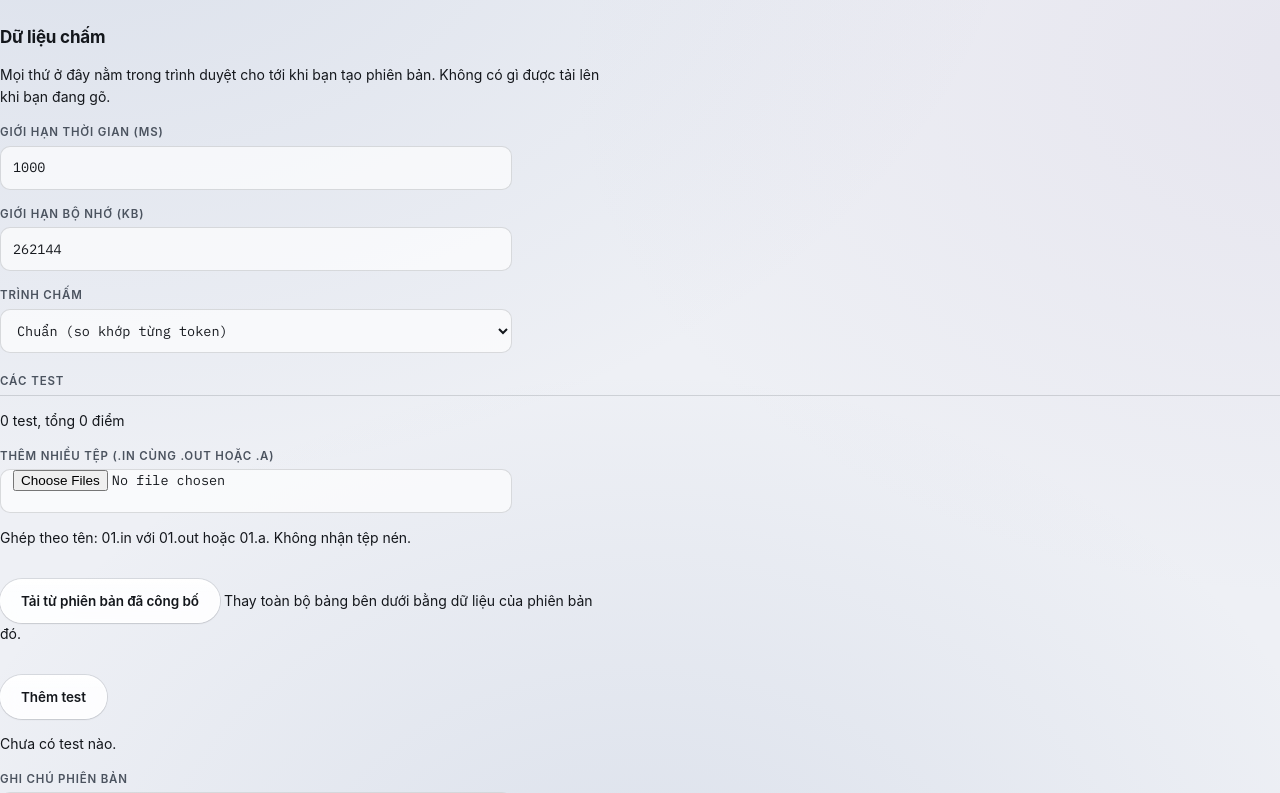
it: the test-data tab › offers the checker source editor only when a source checker is chosen (D40)
This screenshot has width=1280, height=793.
expect the text "checker.cpp" is not shown: met
Select "Mã nguồn trình chấm testlib" in the dropdown labelled "Trình chấm". click: point(256, 331)
box: [0,309,512,353]
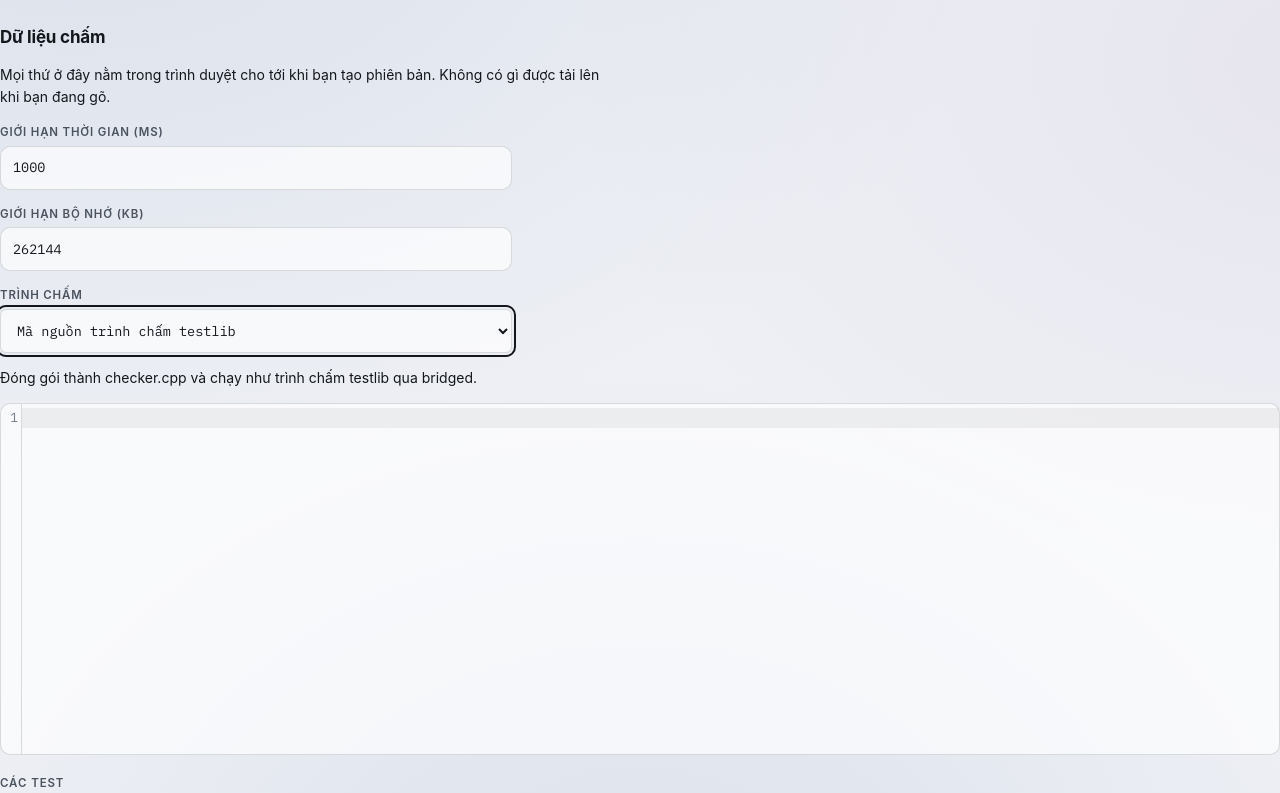
expect the text "Đóng gói thành checker.cpp và chạy như trình chấm testlib qua bridged." is shown: met, box [0,369,477,386]
